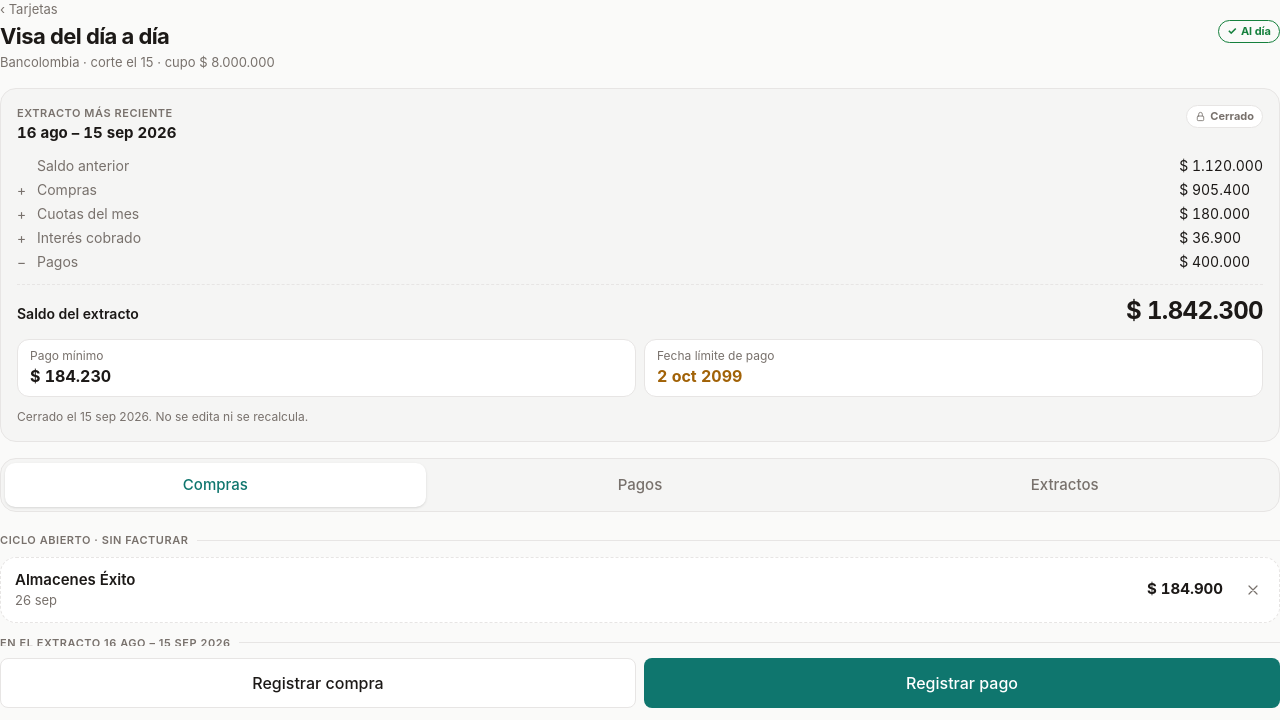
Test: CardDetailPage › opens the billed sheet on the refetched statement that holds the entry
What coordinates should you click on to do the following:
click the button named "Borrar compra Almacenes Éxito"
I would click on:
 (1253, 590)
Its box is [1231,568,1275,612].
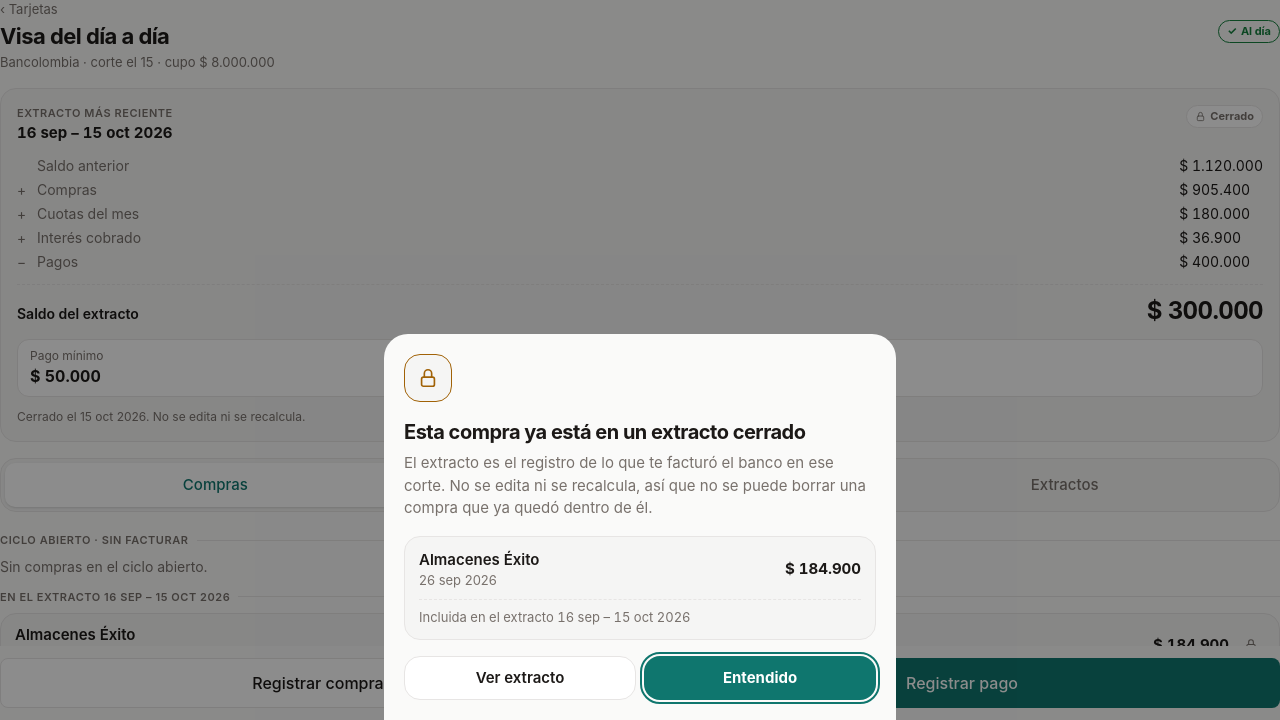
Expected: the dialog "ya está en un extracto cerrado" shows "16 sep – 15 oct 2026", [557,608,691,624]
